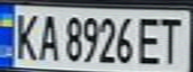2: (97, 14, 118, 65)
6: (115, 14, 139, 65)
8: (60, 11, 84, 62)
9: (78, 12, 100, 64)
A: (36, 10, 60, 62)
E: (136, 14, 166, 66)
K: (9, 9, 42, 62)
T: (154, 14, 187, 66)
